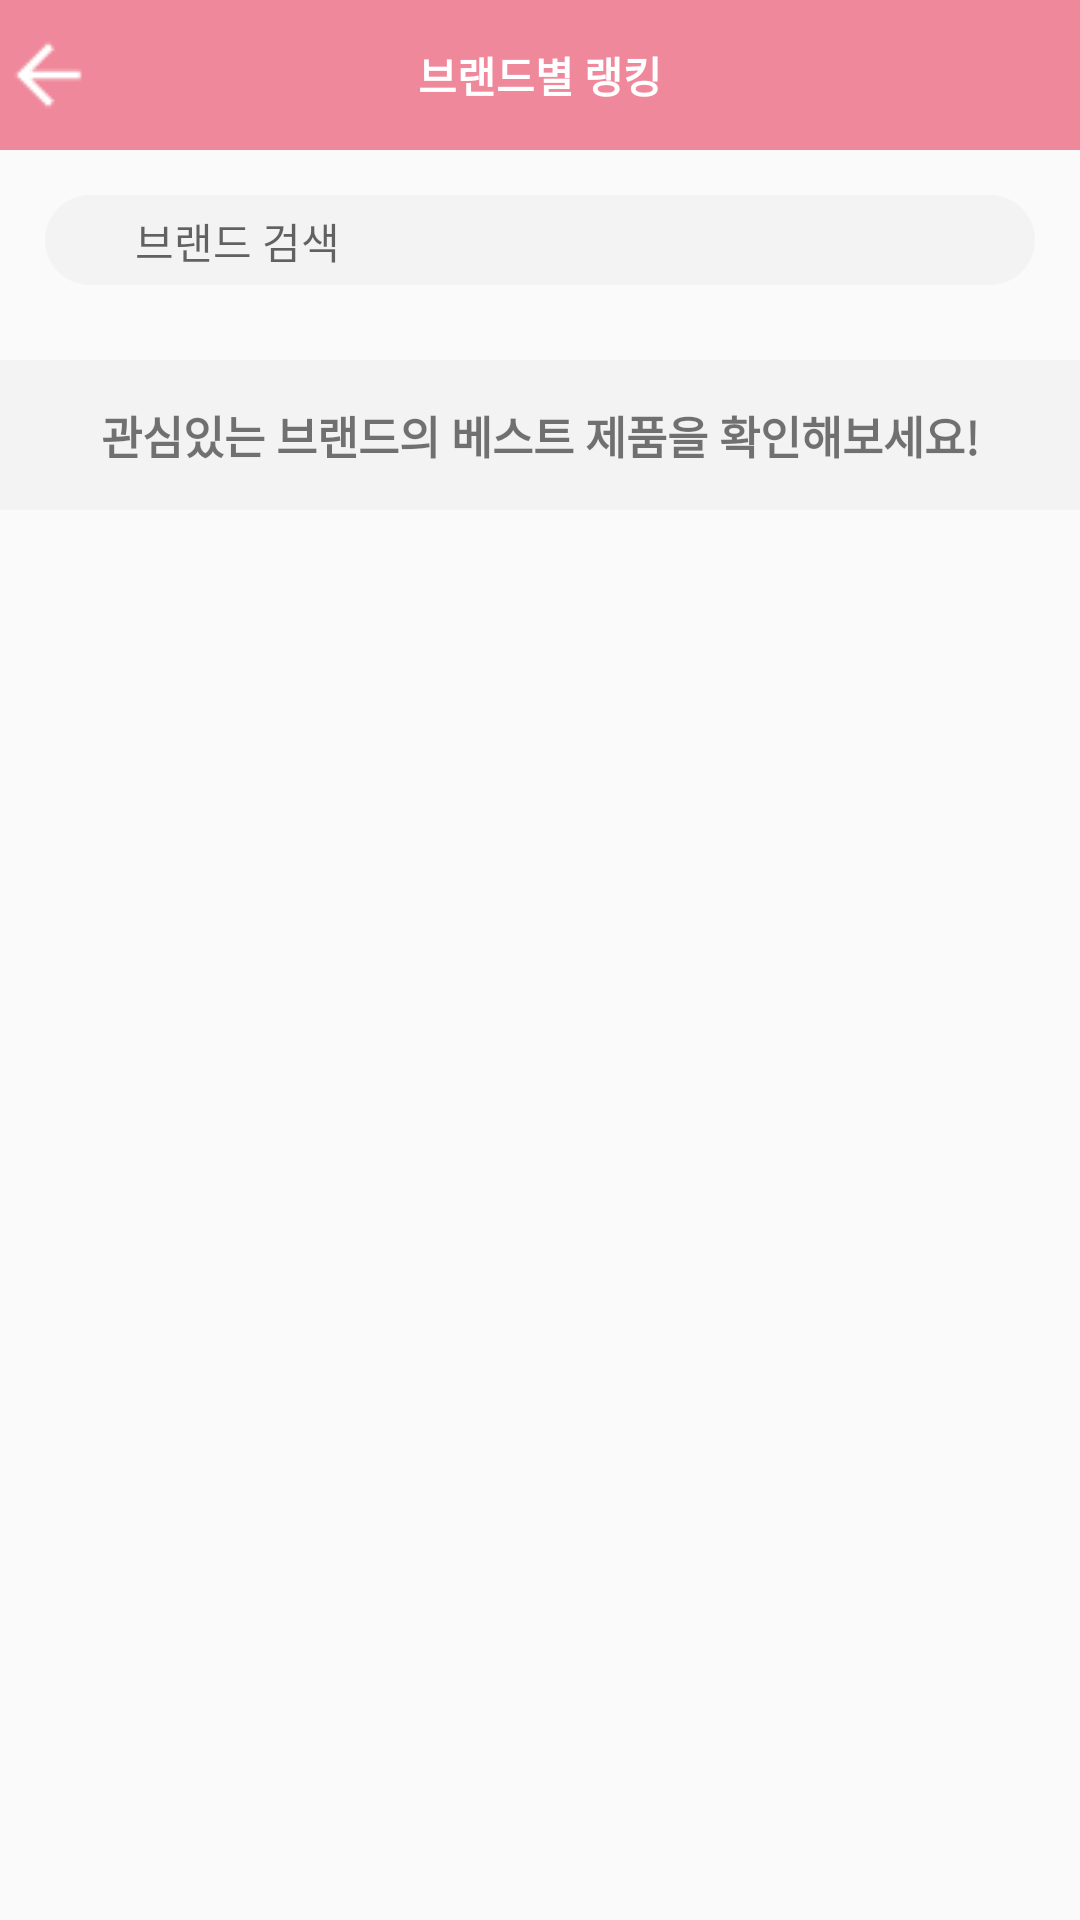

Point at icon controls on the screen. Image size 1080×1920, points as (x=x, y=y).
arrow back: (x=49, y=75)
